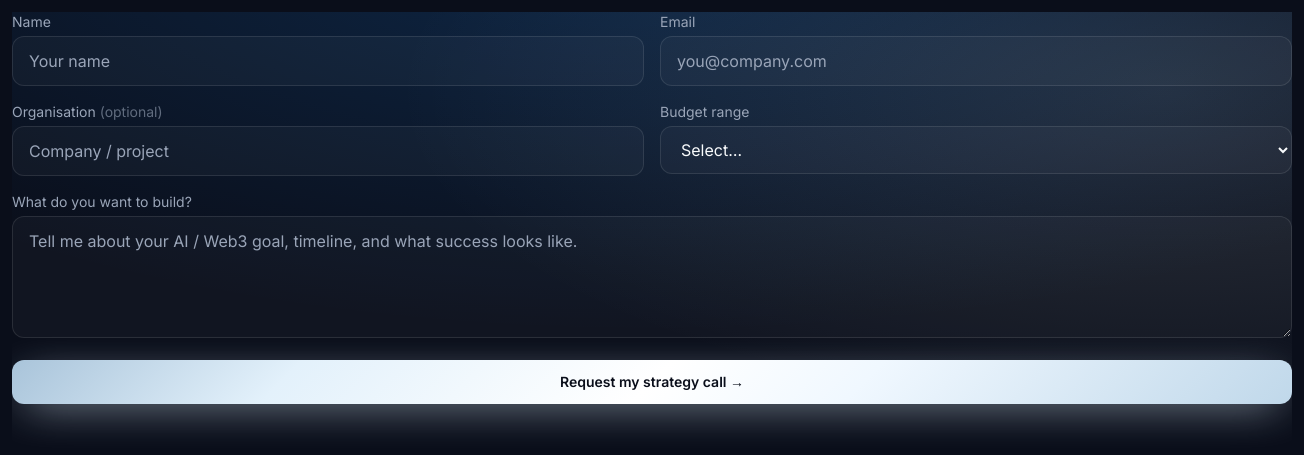
ContactForm › posts valid input and shows a success message
The width and height of the screenshot is (1304, 455).
Type "Ada" into the field labelled "Name" at (328, 61), box [12,36,644,86]
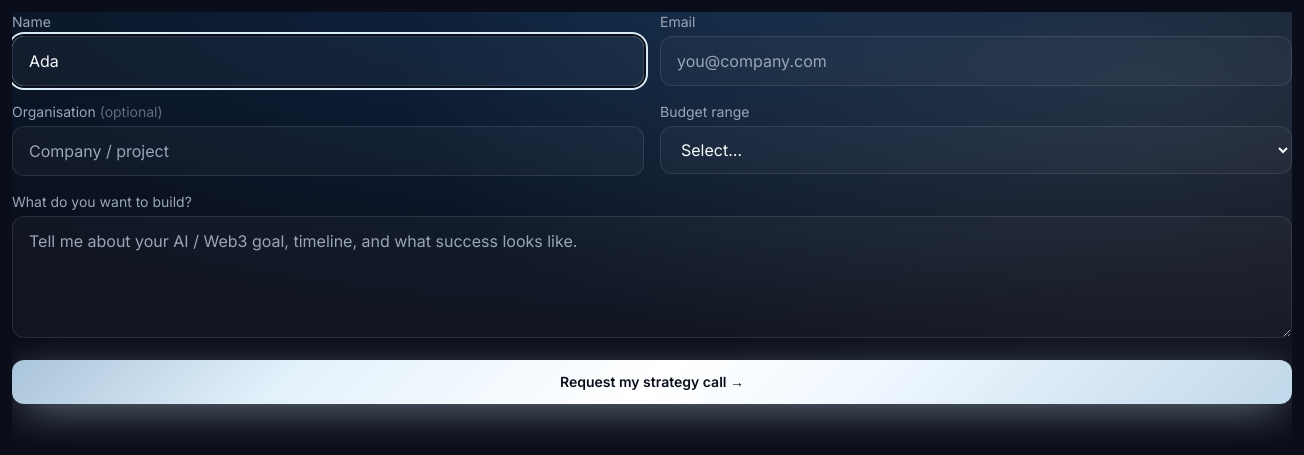
Type "ada@example.com" into the field labelled "Email" at (976, 61), box [660,36,1292,86]
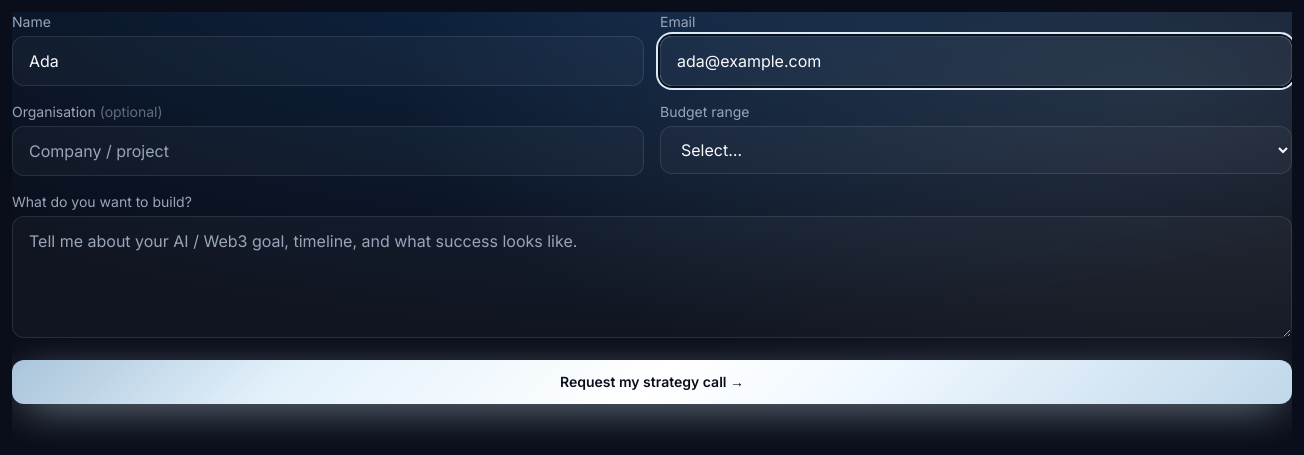
Select "$5k to $25k" in the dropdown labelled "Budget range" at (976, 150), box [660,126,1292,174]
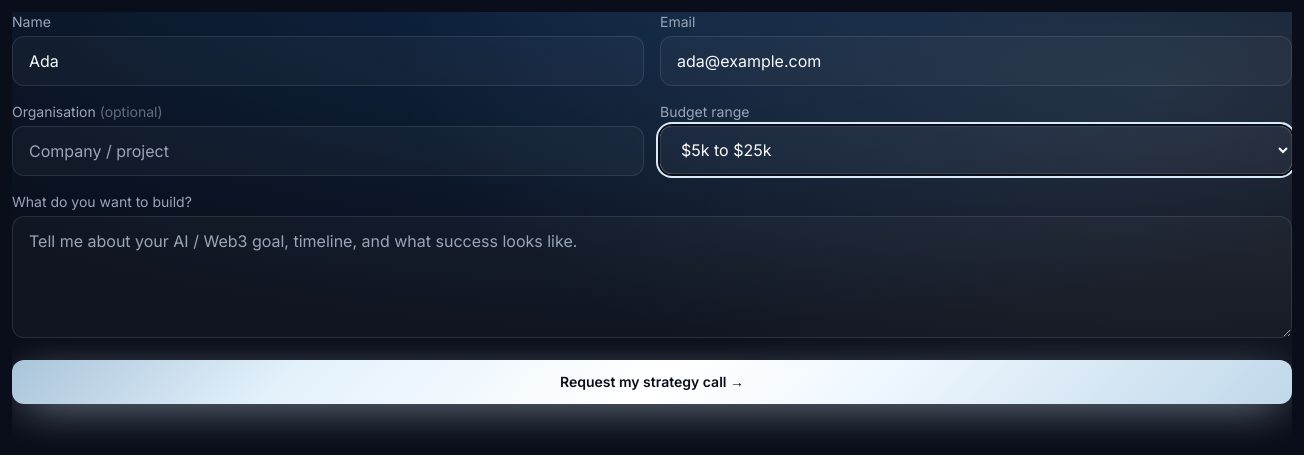
Type "Build an AI agent platform" into the text box labelled "What do you want to build?" at (652, 277), box [12,216,1292,338]
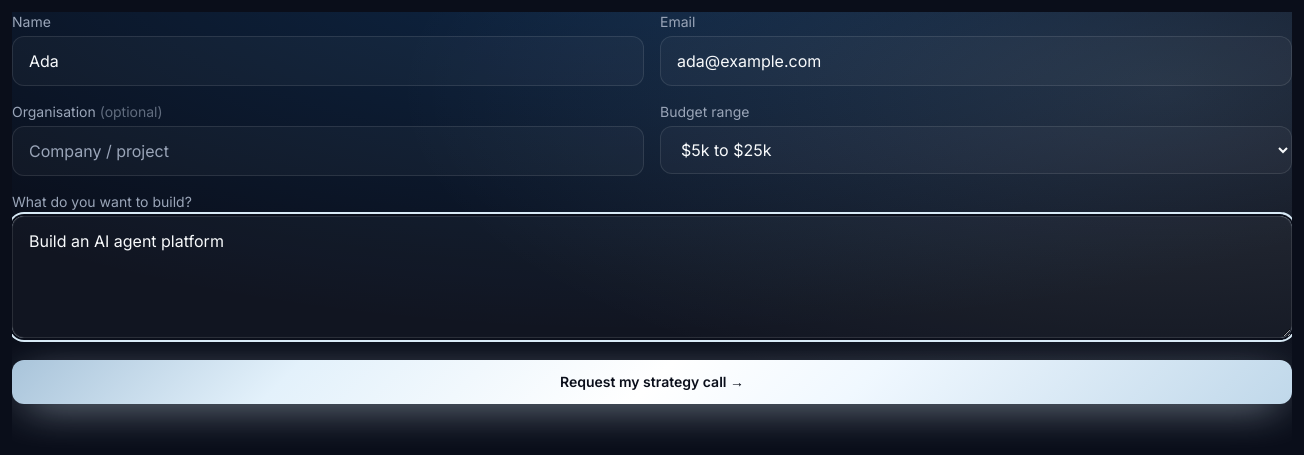
Click the button "Request my strategy call →" at (652, 382), box [12,360,1292,404]
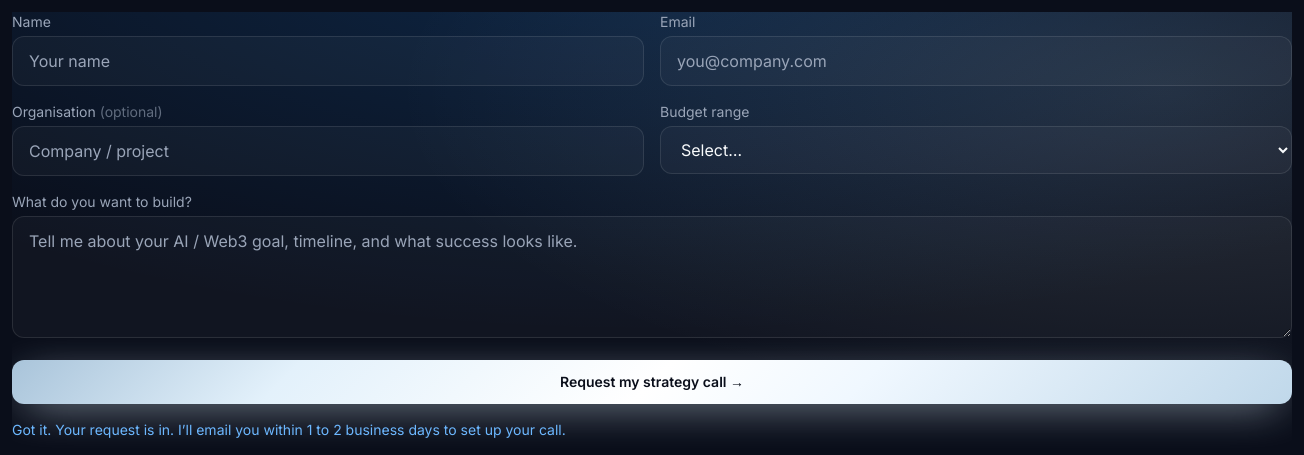
Check: the message shows "Your request is in", box [12,421,566,438]
